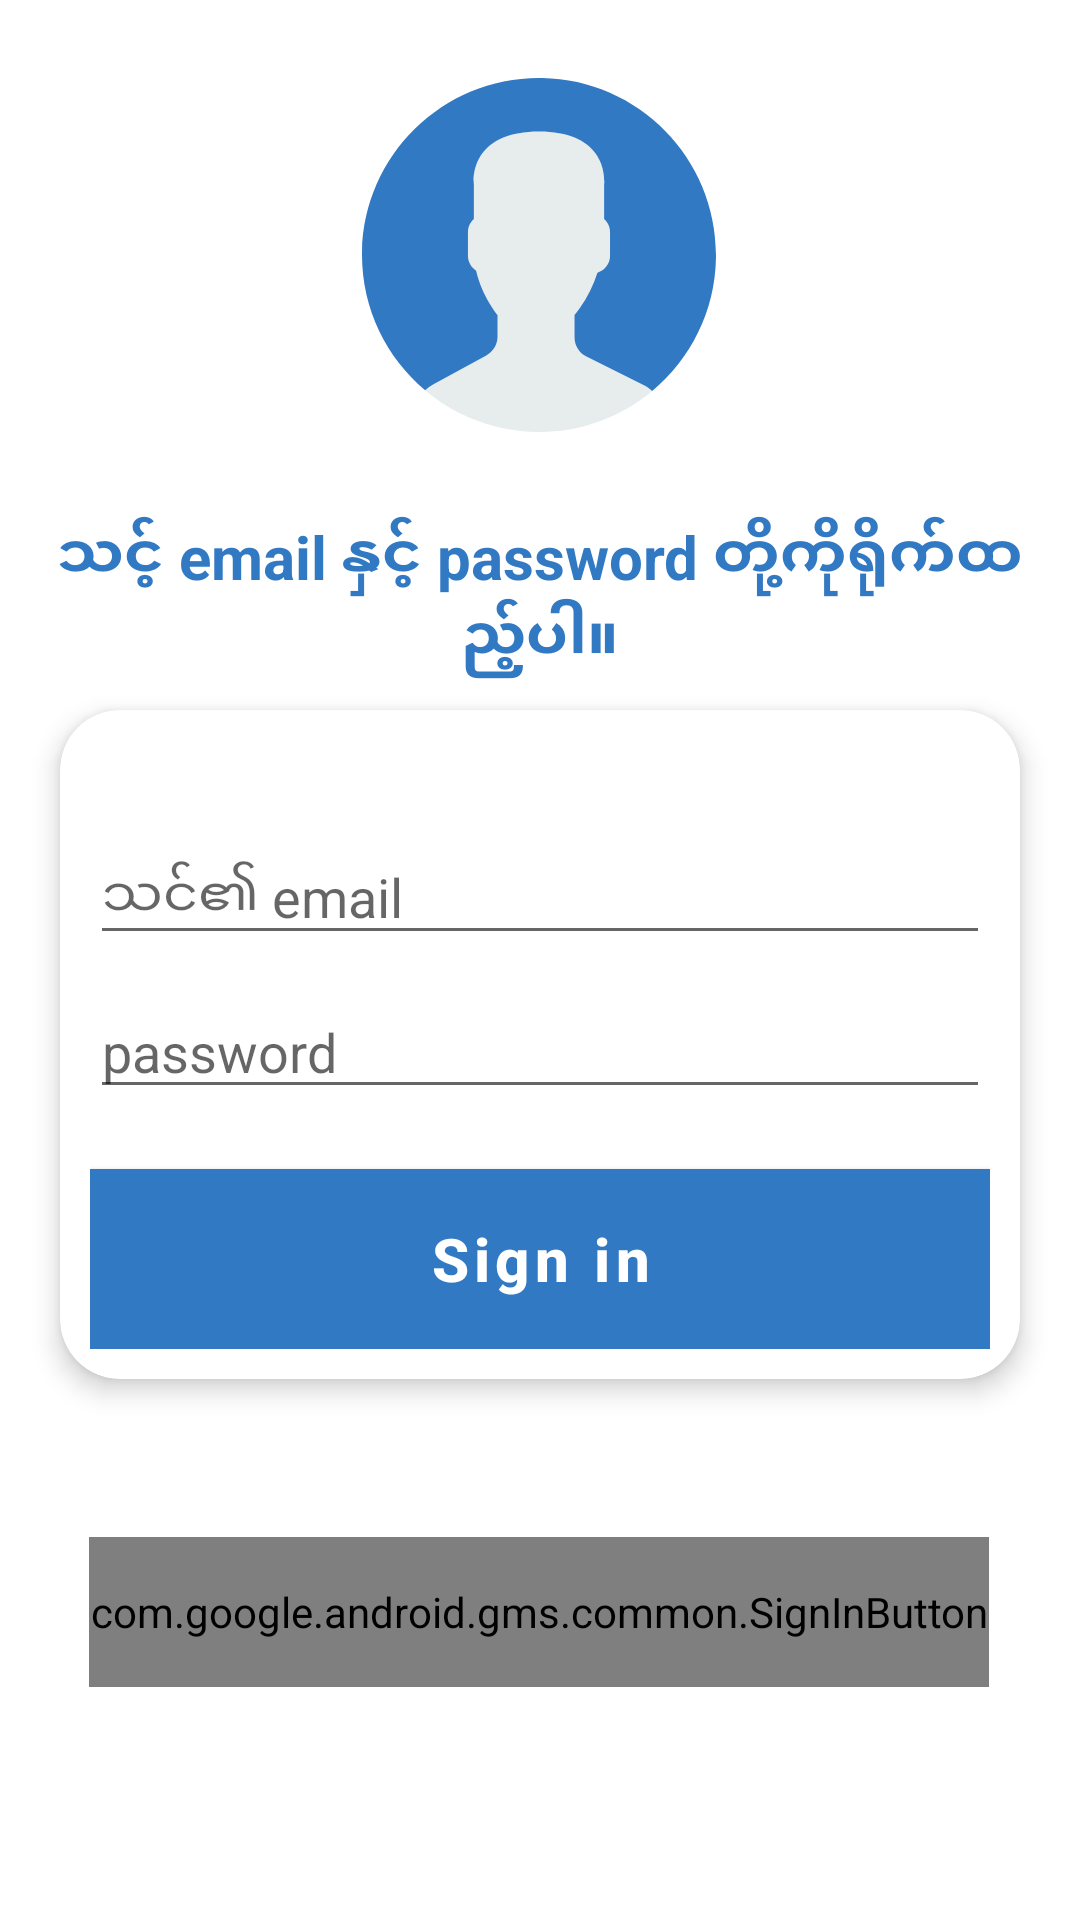

Icon click points for this 1080×1920 phone screenshot, format (x=x, y=y):
user: (x=539, y=234)
